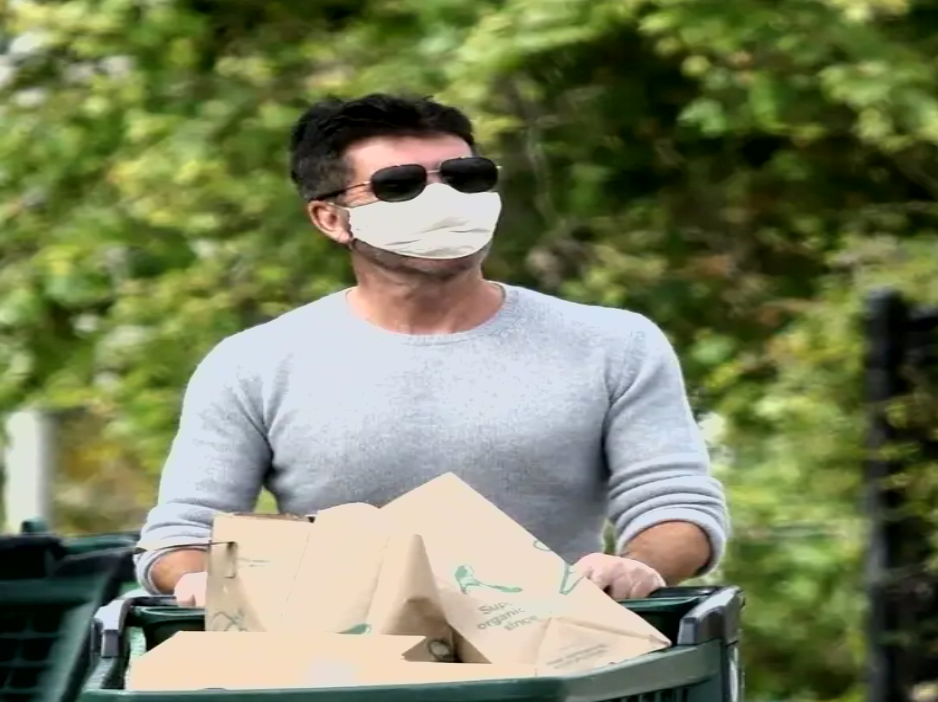mask_weared_incorrect: (286, 98, 511, 280)
